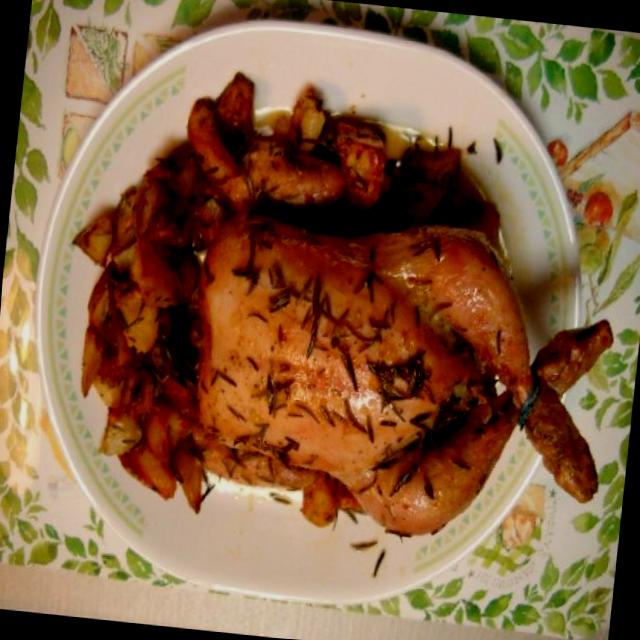Chicken: (164, 195, 630, 578)
